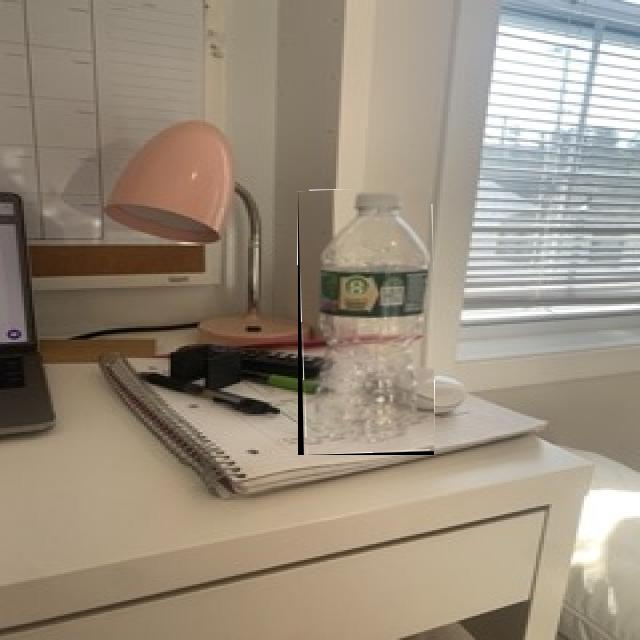water_bottle: (298, 189, 434, 455)
